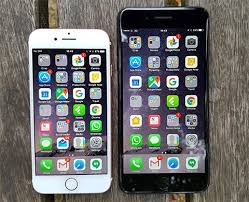iphone: (114, 2, 211, 195), (26, 28, 114, 197)
iphone7: (114, 1, 211, 194), (26, 26, 114, 195)
